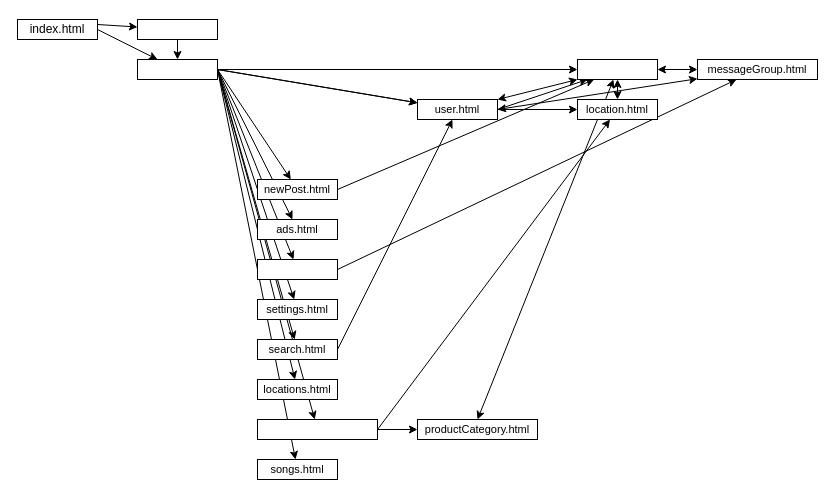
The diagram is 835 pixels wide and 497 high, and some of its shapes have lost their labels. Each missing label, with the centre of its shape:
feed.html: (x=177, y=69)
messaging.html: (x=297, y=269)
newUser.html: (x=177, y=29)
post.html: (x=617, y=69)
productCategories.html: (x=317, y=429)
